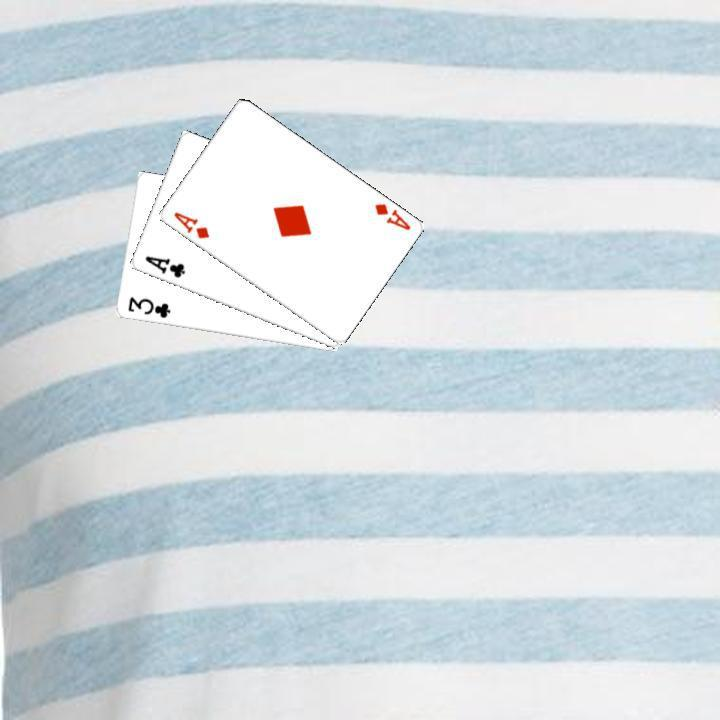3: (123, 293, 172, 320)
A: (169, 207, 211, 241), (370, 199, 412, 232), (140, 251, 187, 280)
